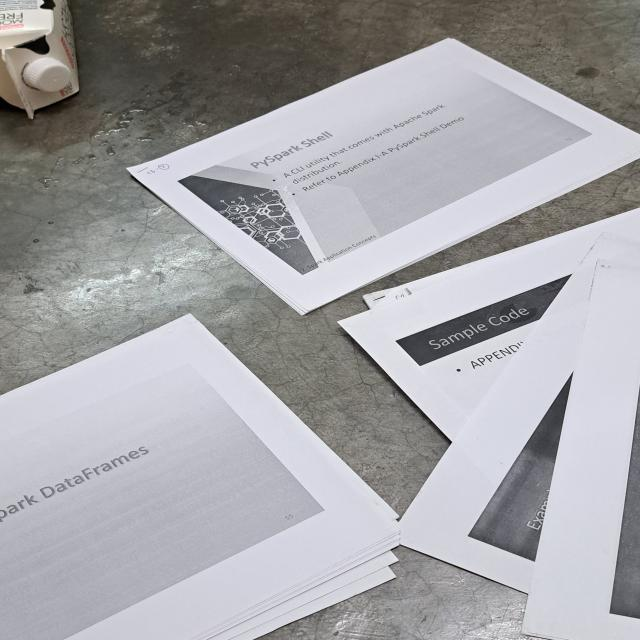drink carton: (0, 0, 80, 121)
paper: (129, 35, 640, 316), (338, 209, 640, 640), (0, 316, 397, 640)
plastic bottle cap: (24, 56, 72, 92)
